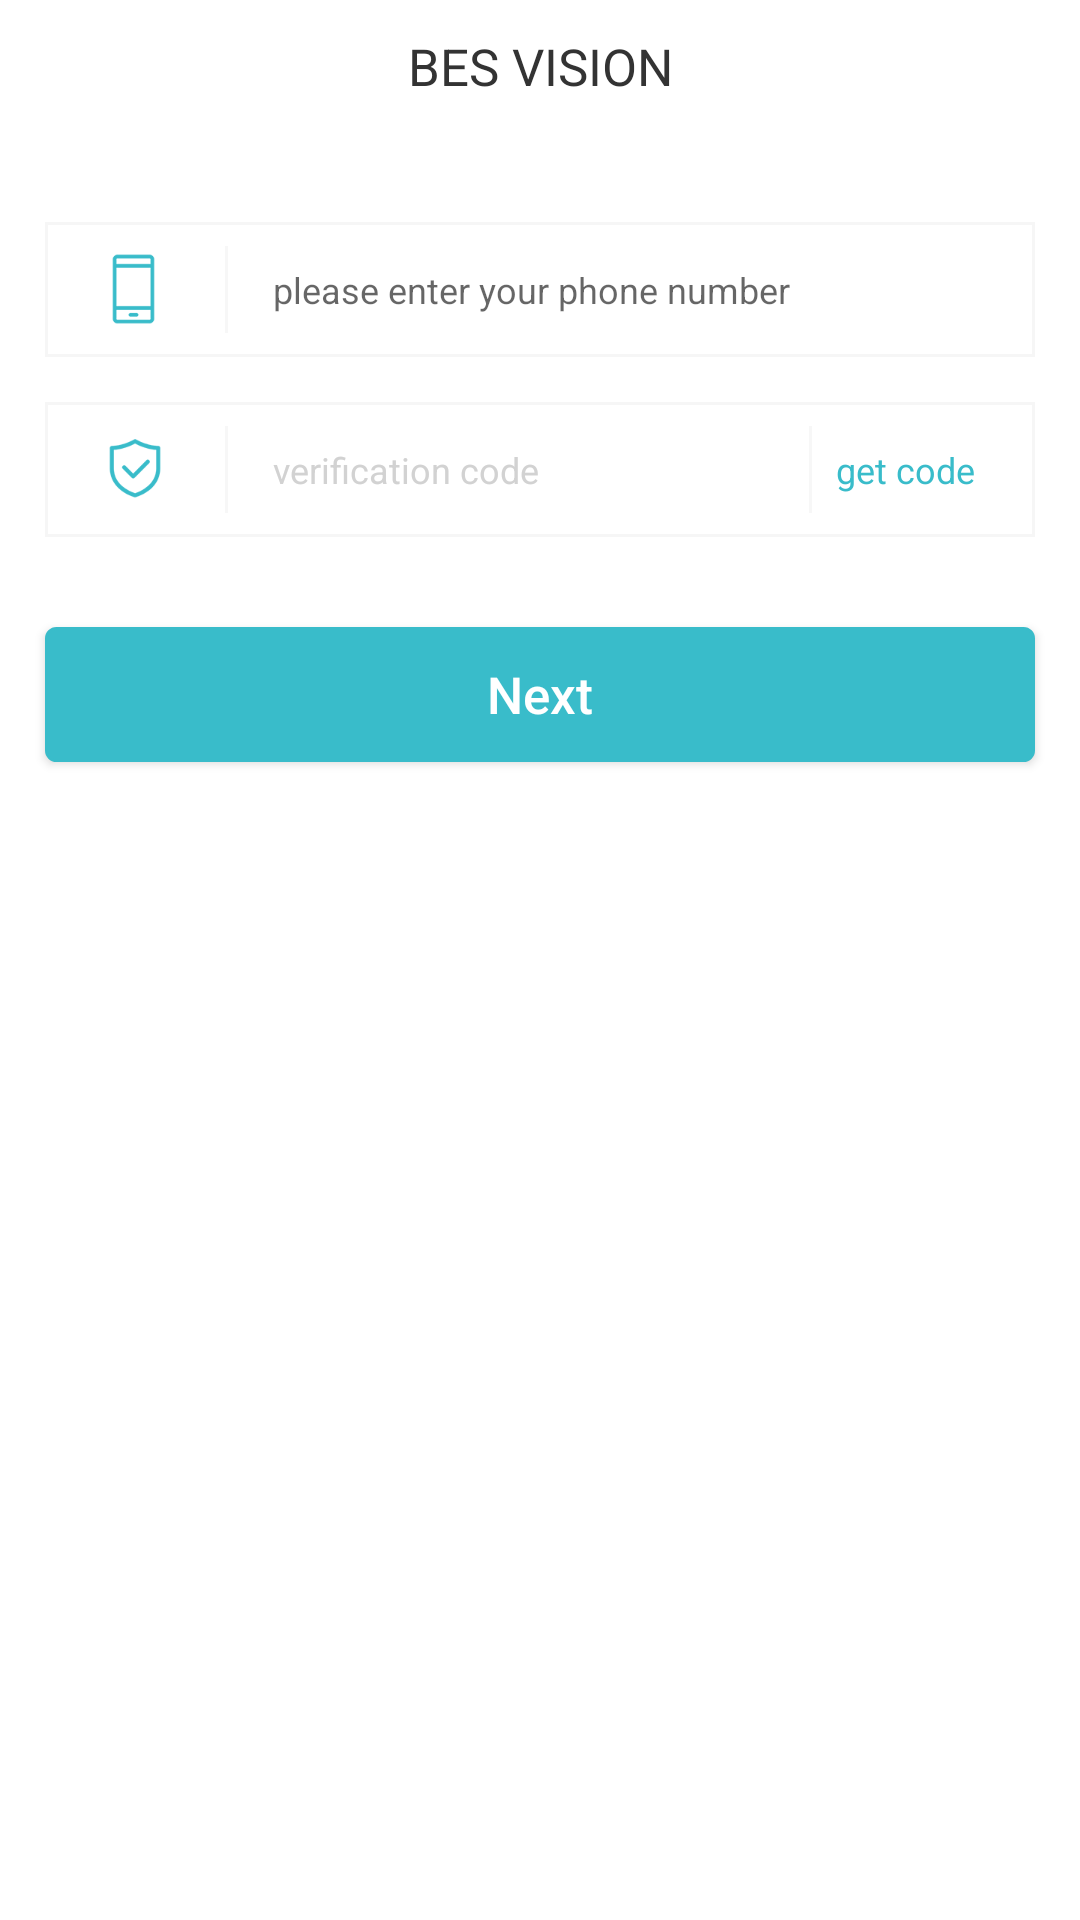

Point at icon controls on the screen. Image size 1080px x 1920px, points as (x,y).
smartphone: (133,289)
